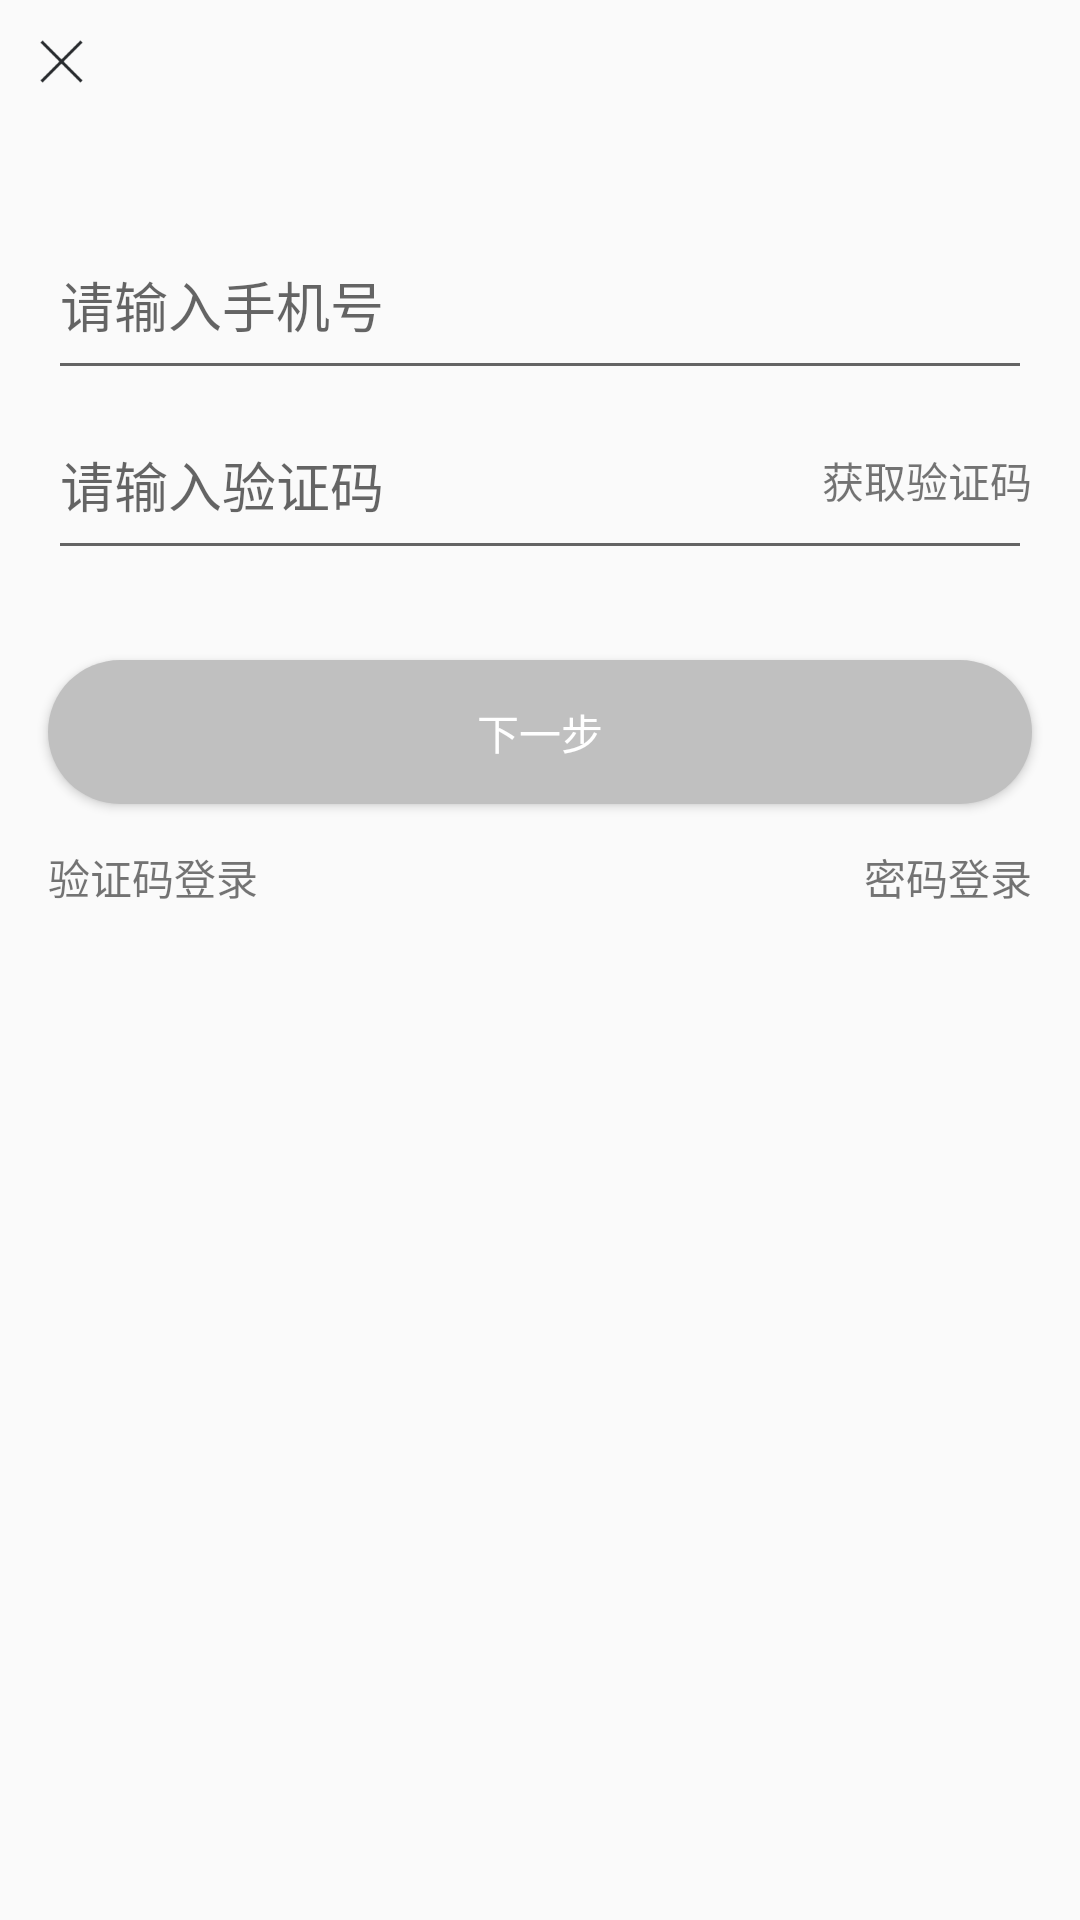

Named icons in this screenshot (1080x1920) and their bounding boxes, rect(x1, y1, x2, y2):
close: rect(40, 40, 83, 83)
